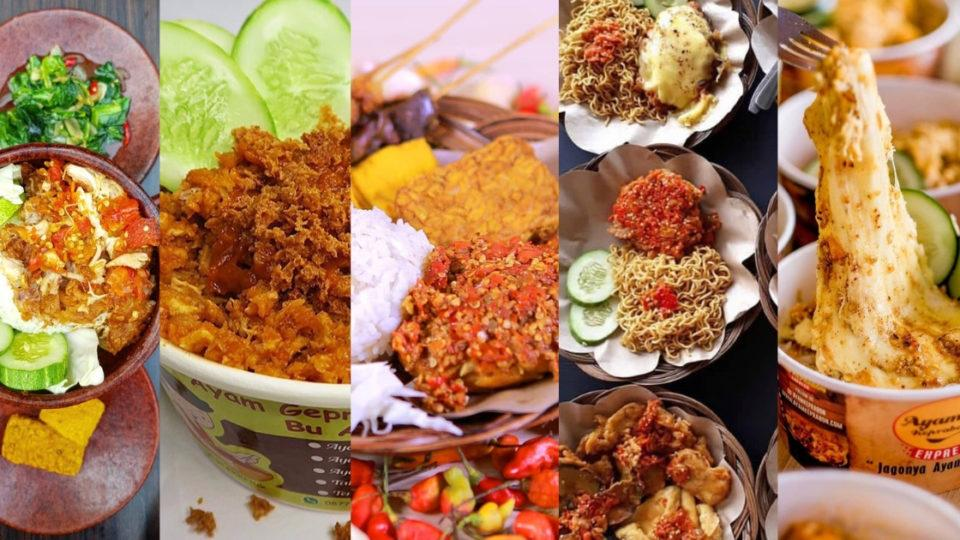ayam_geprek: (387, 223, 568, 411), (14, 169, 160, 392), (599, 186, 732, 361)
